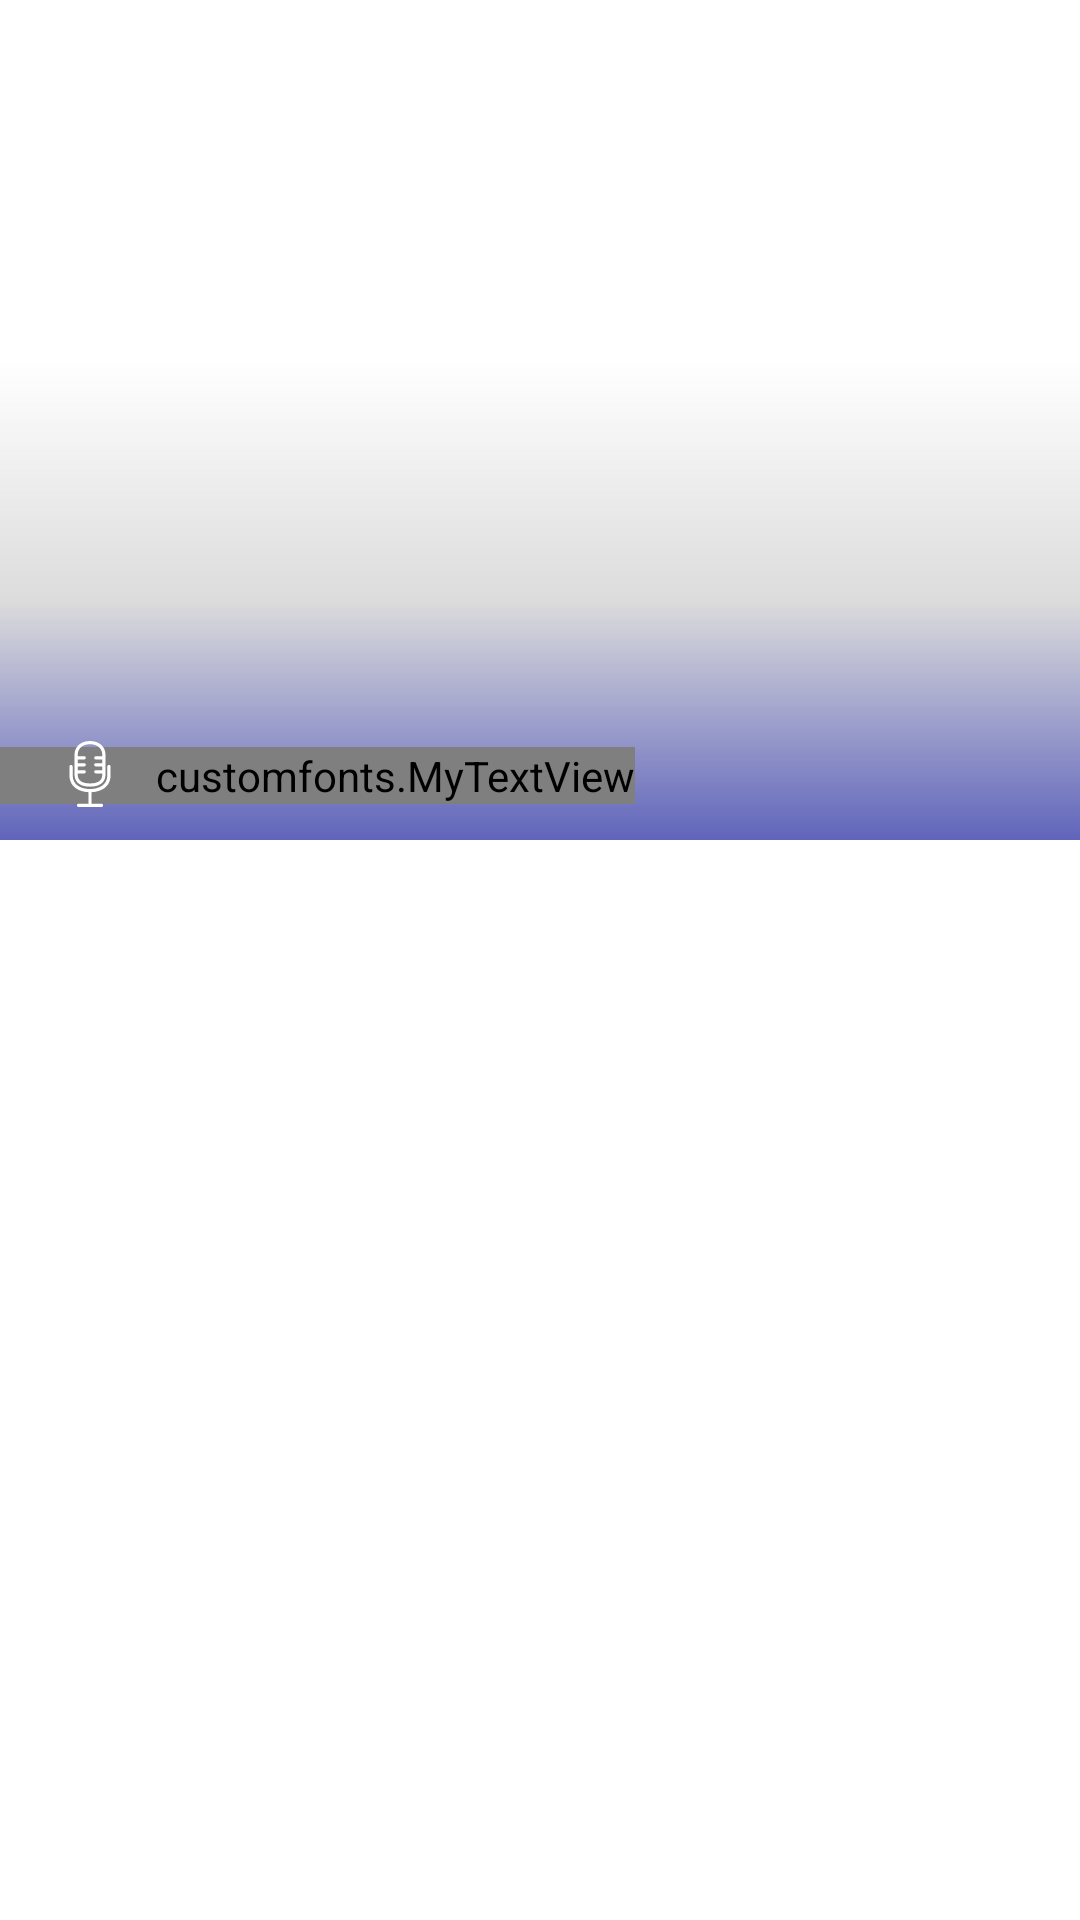

Icon click points for this 1080 × 1920 phone screenshot, format [x,y]:
voice microphone: [90,774]
